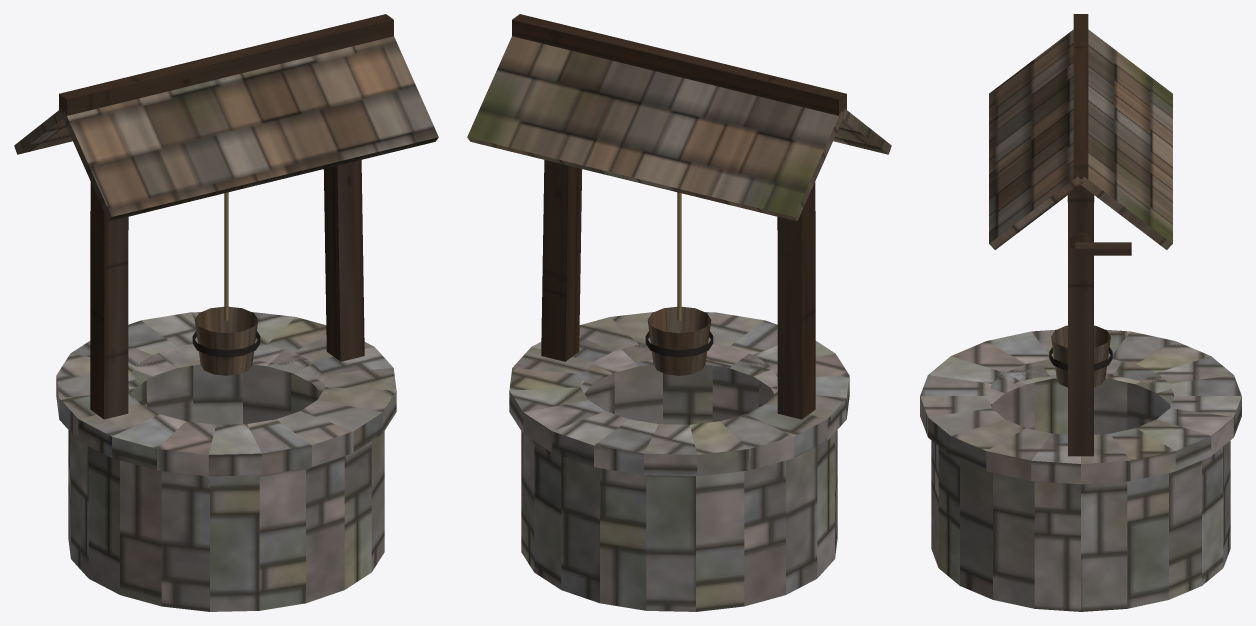
Rendered from well.gltf.
3 renders of one model, left to right at view 1: azimuth 30°, elevation 25°; view 2: azimuth 150°, elevation 25°; view 3: azimuth 270°, elevation 25°, orthographic. The views are drawn at different scales.
Parts seen in each view (by area): view 1: well; view 2: well; view 3: well.
Boxes of the visible parts, x1,y1,x2,y2 form: well: [14, 14, 438, 611]; well: [467, 14, 891, 611]; well: [920, 14, 1241, 611].
Bounding box in the file's own units: 1.9 × 2.71 × 1.72.
4 materials, 1 textured.
